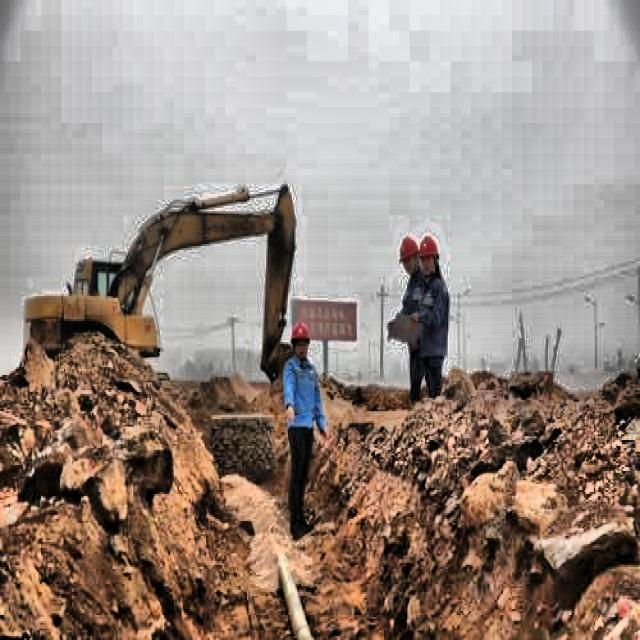helmet: (397, 232, 420, 278), (418, 234, 441, 277), (288, 319, 310, 361)
